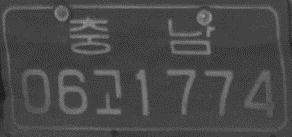0: (20, 68, 51, 115)
1: (128, 67, 158, 116)
4: (243, 68, 275, 120)
6: (56, 68, 87, 116)
7: (166, 67, 196, 116), (203, 68, 233, 115)
고: (92, 68, 123, 115)
충남_D: (69, 16, 214, 56)
